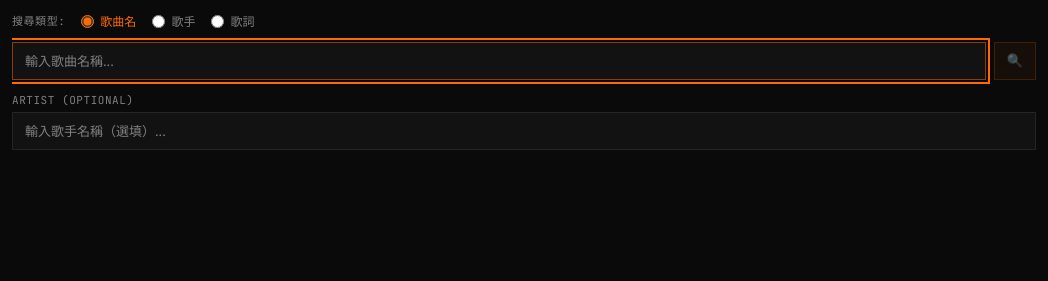
Test: LyricsSearchPanel › displays search results after successful search
Type "Test Song" into the field with placeholder "輸入歌曲名稱...". click: (499, 61)
box: top-left (12, 42), bottom-right (986, 80)
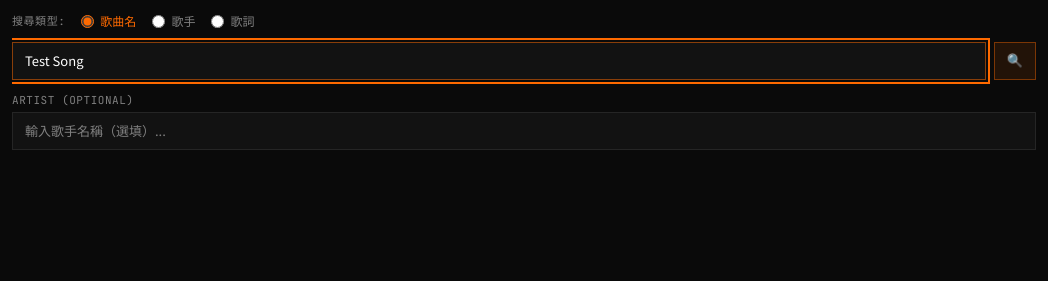
Press Enter in the field with placeholder "輸入歌曲名稱...", box top-left (12, 42), bottom-right (986, 80)
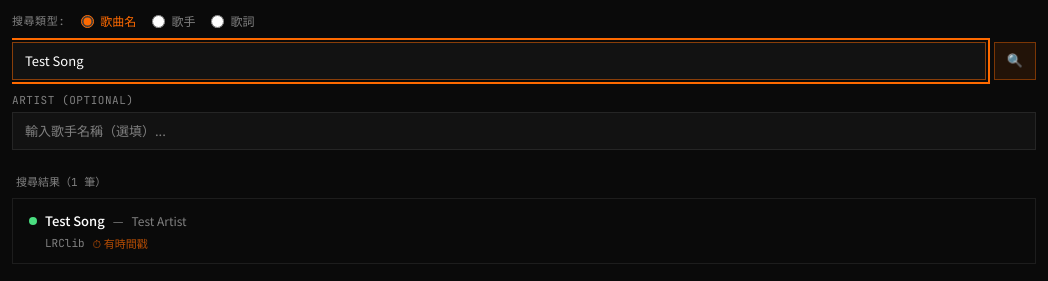
Expected: the text "Test Song" is shown, top-left (45, 211), bottom-right (105, 230)
